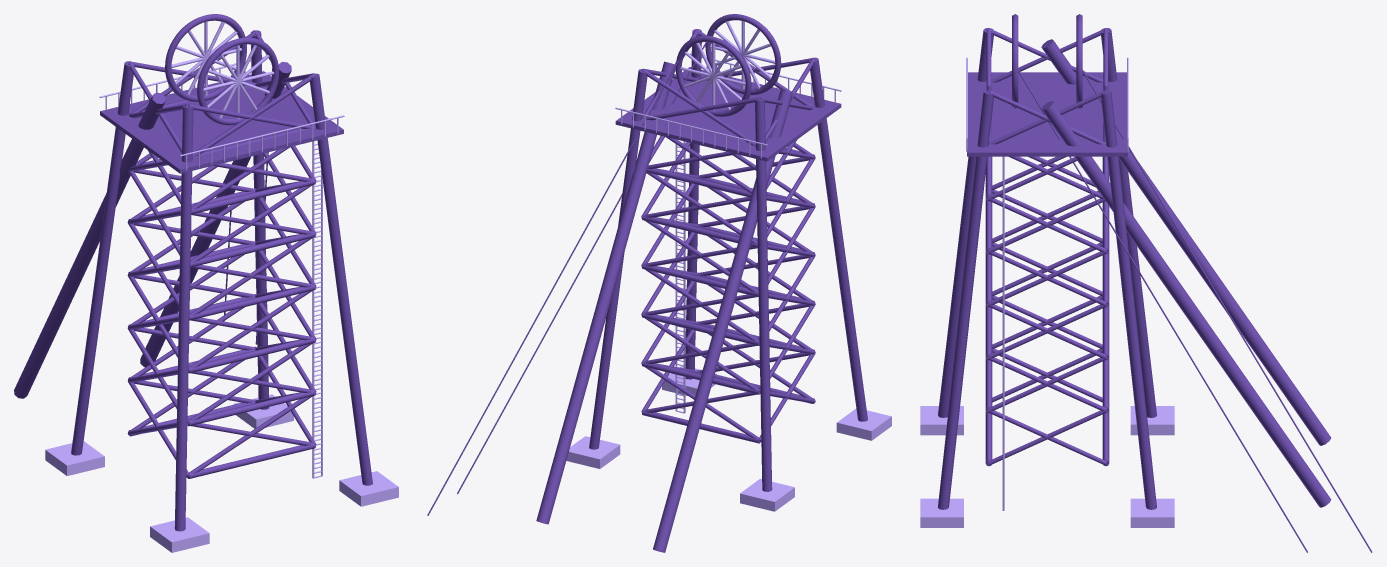
Rendered from couriot_violet_light.glb.
3 views of the same model, side by side, from view 1: azimuth 30°, elevation 25°; view 2: azimuth 150°, elevation 25°; view 3: azimuth 270°, elevation 25° (orthographic). The views are drawn at different scales.
Visible parts, largest first — view 1: Violet structural steel, Lavender carved stone; view 2: Violet structural steel, Lavender carved stone; view 3: Violet structural steel, Lavender carved stone.
Part boxes in pixels (x1,y1,x2,y2): Violet structural steel: (14, 14, 372, 531); Lavender carved stone: (45, 21, 398, 552); Violet structural steel: (427, 14, 867, 552); Lavender carved stone: (566, 21, 891, 511); Violet structural steel: (938, 14, 1372, 552); Lavender carved stone: (920, 57, 1174, 527).
Bounding box in the file's own units: 22.36 × 35 × 31.38.
